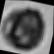correct: (0, 0, 54, 52)
